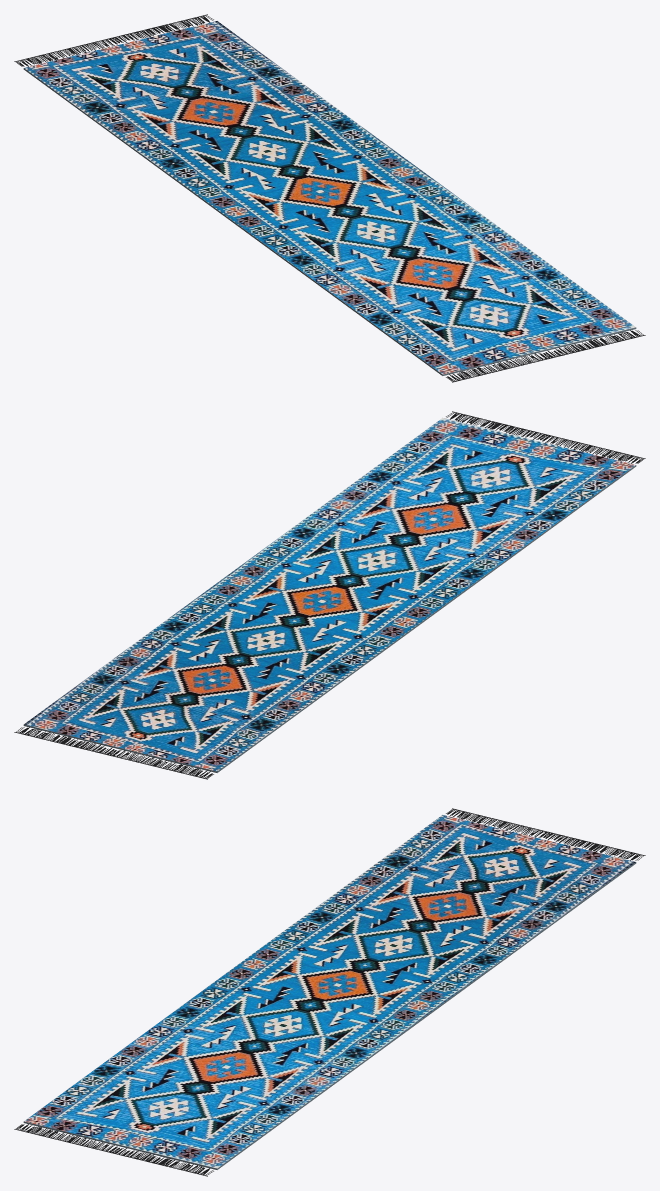
3 renders of one model, top to bottom at view 1: azimuth 30°, elevation 25°; view 2: azimuth 150°, elevation 25°; view 3: azimuth 330°, elevation 25°, orthographic.
Parts seen in each view (by area): view 1: rug, fringeB, fringeA, side; view 2: rug, fringeA, fringeB, side; view 3: rug, fringeB, fringeA, side.
Part boxes in pixels (x1,y1,x2,y2): rug: [24, 21, 635, 374]; fringeB: [446, 330, 645, 382]; fringeA: [14, 14, 213, 66]; side: [23, 68, 636, 375]; rug: [24, 418, 635, 771]; fringeA: [14, 727, 213, 779]; fringeB: [446, 411, 645, 463]; side: [23, 465, 636, 772]; rug: [24, 815, 635, 1168]; fringeB: [14, 1124, 213, 1176]; fringeA: [446, 808, 645, 860]; side: [23, 862, 636, 1169].
Size of what is drawn, in the model's own units: 0.8 by 0.00614 by 3.14.
Materials: 2 (2 with a texture image).
